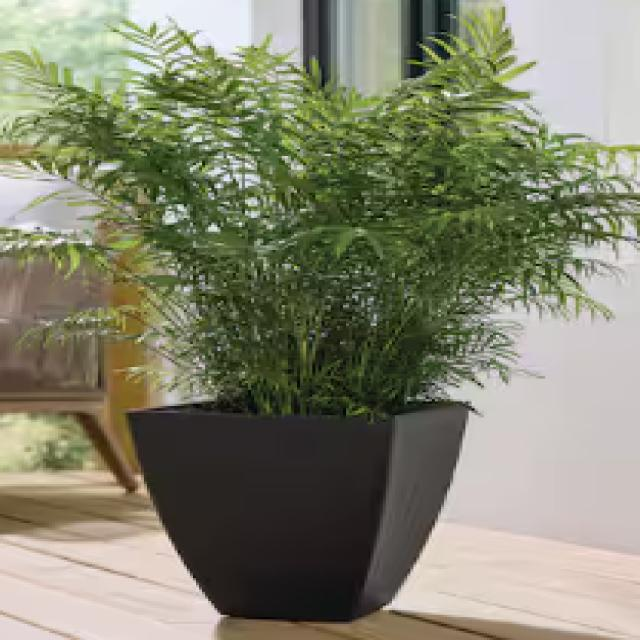Plant Pot: (109, 386, 472, 634)
